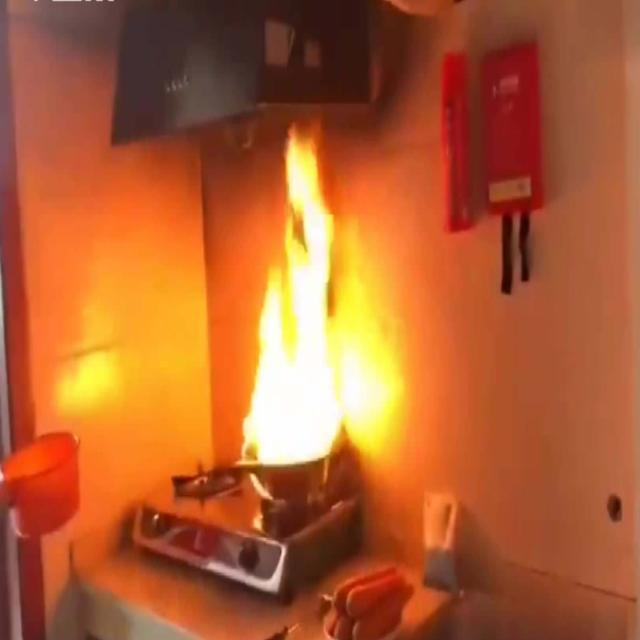Fire: (240, 132, 390, 469)
